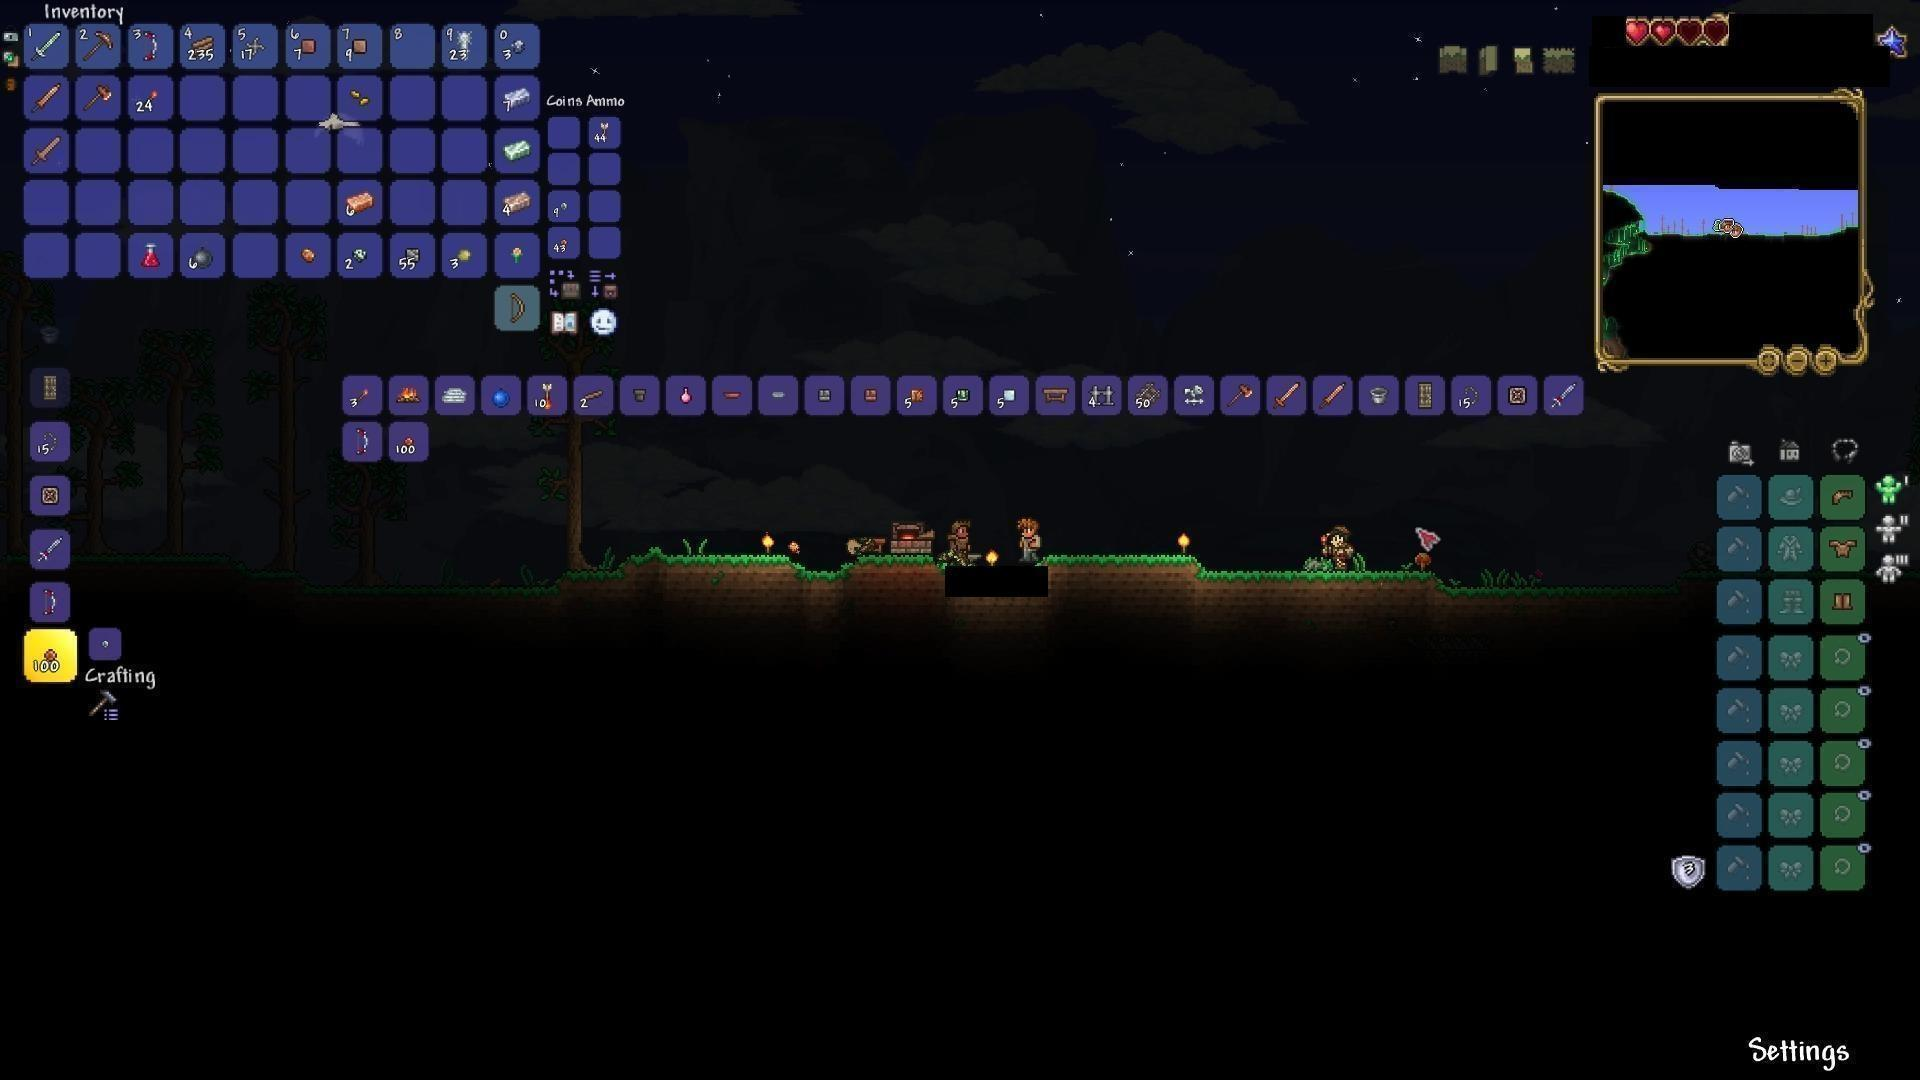dirt: (1188, 567, 1420, 620), (778, 547, 949, 607), (487, 549, 647, 605), (1047, 554, 1209, 597), (1414, 570, 1557, 615), (647, 550, 794, 582)
heart: (1625, 15, 1651, 44)
